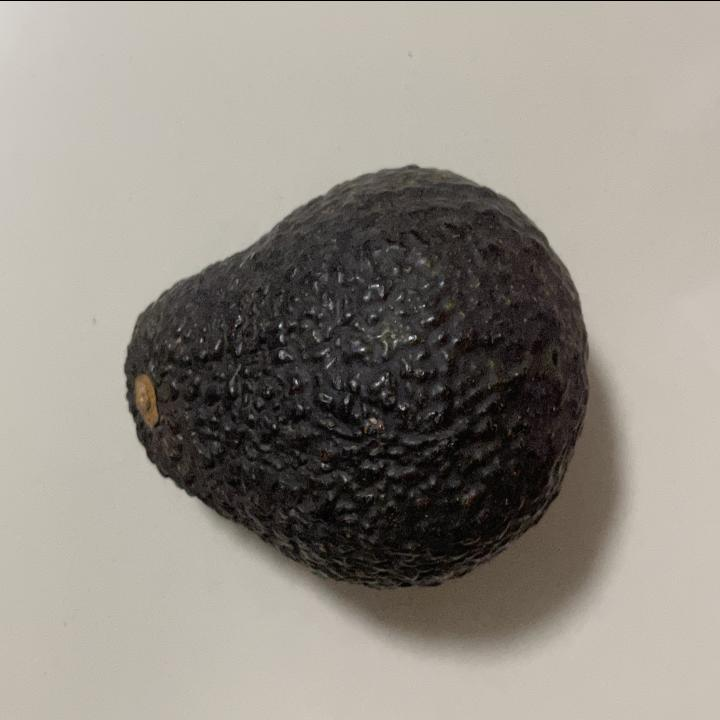Level2: (120, 154, 594, 598)
